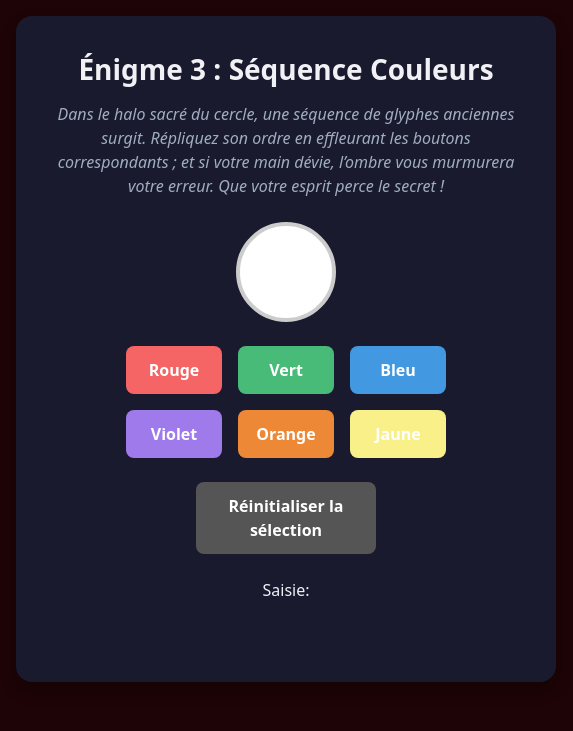
Test: ColorButton › affiche "Succès 🎉" si bonne séquence est saisie
The width and height of the screenshot is (573, 731).
Click the button "Vert": (286,370) [238,346,334,394]
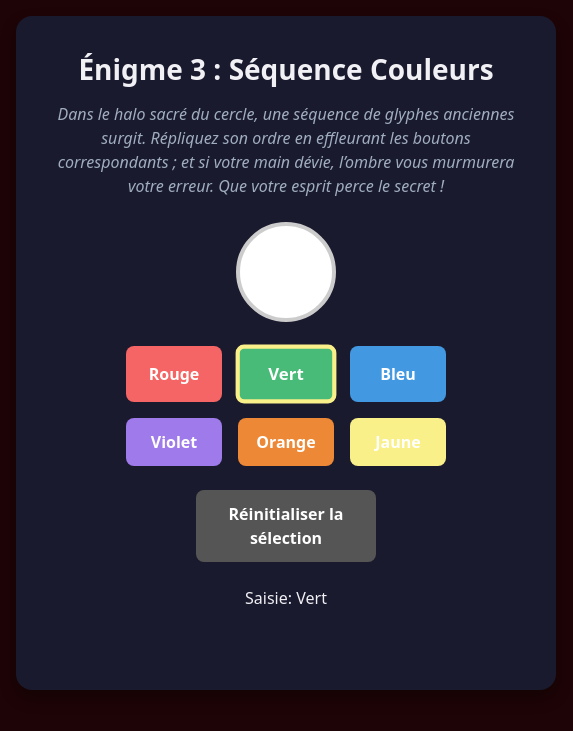
Click the button "Jaune": (398,442) [350,418,446,466]
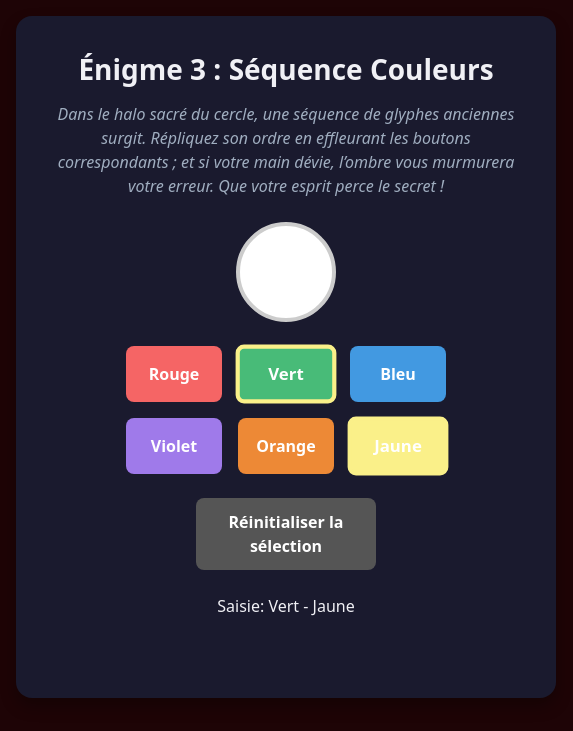
Click the button "Orange": (286,446) [238,418,334,474]
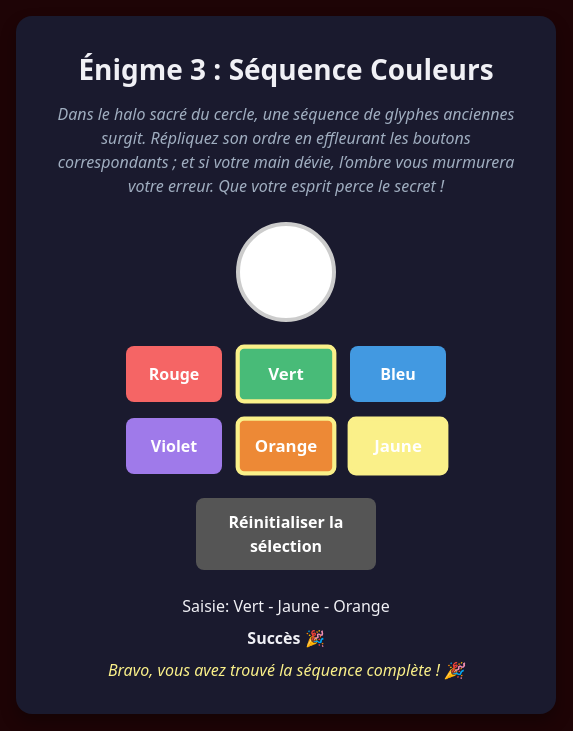
Check: the text "Succès 🎉" is shown, box [247,627,325,649]
Check: the text "Bravo, vous avez trouvé la séquence complète ! 🎉" is shown, box [108,659,464,681]
